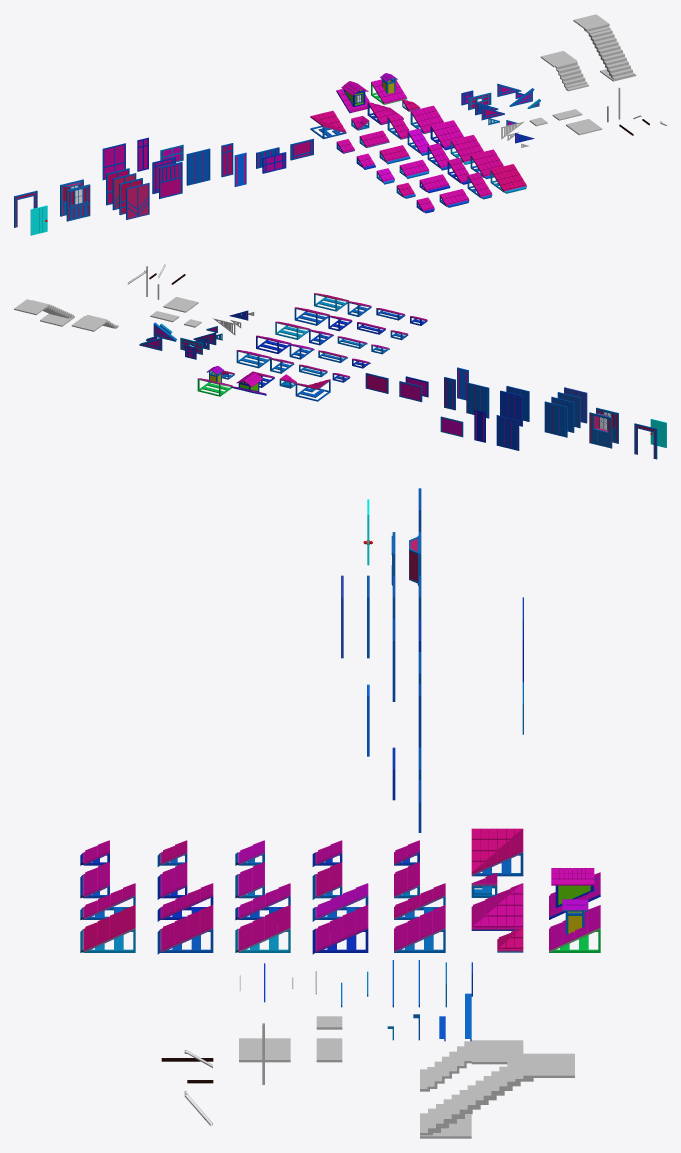
File: Modular Parts Fbx.fbx
3 renders of one model, top to bottom at view 1: azimuth 30°, elevation 25°; view 2: azimuth 150°, elevation 25°; view 3: azimuth 270°, elevation 25°, orthographic. The views are drawn at different scales.
Parts seen in each view (by area): view 1: Stairs, Stairs 2, Wall Window 2, Wall In, Stone Wall 2, Wall 4, Roof Flue, Roof End Corner 2, Roof Window, Wall Roof Side, Roof End Corner, Roof End (+26 smaller); view 2: Stairs, Wall Window 1, Wall 1, Wall Roof Side, Wall In, Stone Wall 1, Roof Flue, Roof Corner, Stairs 2, Roof Window, Half Wall 1, Half Wall Stone (+17 smaller); view 3: Stairs, Stairs 2, Roof Corner, Roof Flue, Roof Corner 2, Roof End, Roof End Corner Mirror, Roof End Corner, Roof End Corner 2, Roof Window, Roof, Floor (+5 smaller).
Part boxes in pixels (x1,y1,x2,y2): Stairs: [573, 14, 636, 81]; Stairs 2: [540, 51, 588, 91]; Wall Window 2: [66, 184, 90, 221]; Wall In: [186, 148, 210, 185]; Stone Wall 2: [159, 161, 182, 198]; Wall 4: [126, 183, 149, 219]; Roof Flue: [371, 73, 407, 104]; Roof End Corner 2: [490, 164, 526, 193]; Roof Window: [336, 81, 370, 113]; Wall Roof Side: [102, 143, 125, 180]; Roof End Corner: [450, 135, 483, 164]; Roof End: [430, 120, 463, 150]; Stairs: [14, 299, 74, 326]; Wall Window 1: [589, 412, 612, 448]; Wall 1: [544, 401, 567, 437]; Wall Roof Side: [496, 415, 519, 450]; Wall In: [466, 382, 489, 418]; Stone Wall 1: [500, 390, 522, 426]; Roof Flue: [197, 366, 232, 396]; Roof Corner: [295, 379, 330, 401]; Stairs 2: [71, 314, 118, 331]; Roof Window: [231, 373, 266, 395]; Half Wall 1: [399, 381, 422, 402]; Half Wall Stone: [365, 373, 388, 393]; Stairs: [420, 1053, 574, 1138]; Stairs 2: [420, 1040, 523, 1091]; Roof Corner: [471, 828, 523, 876]; Roof Flue: [549, 899, 600, 952]; Roof Corner 2: [471, 883, 523, 930]; Roof End: [312, 905, 368, 954]; Roof End Corner Mirror: [157, 905, 213, 954]; Roof End Corner: [235, 905, 290, 952]; Roof End Corner 2: [80, 905, 135, 952]; Roof Window: [549, 868, 600, 919]; Roof: [394, 905, 445, 952]; Floor: [239, 1038, 290, 1062].
Bounding box in the file's own units: 5401 × 312 × 2015.
